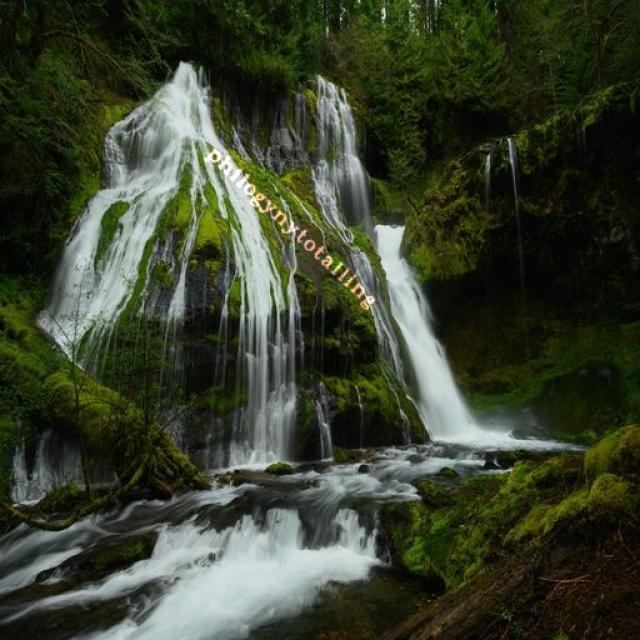watermark: (200, 139, 384, 312)
